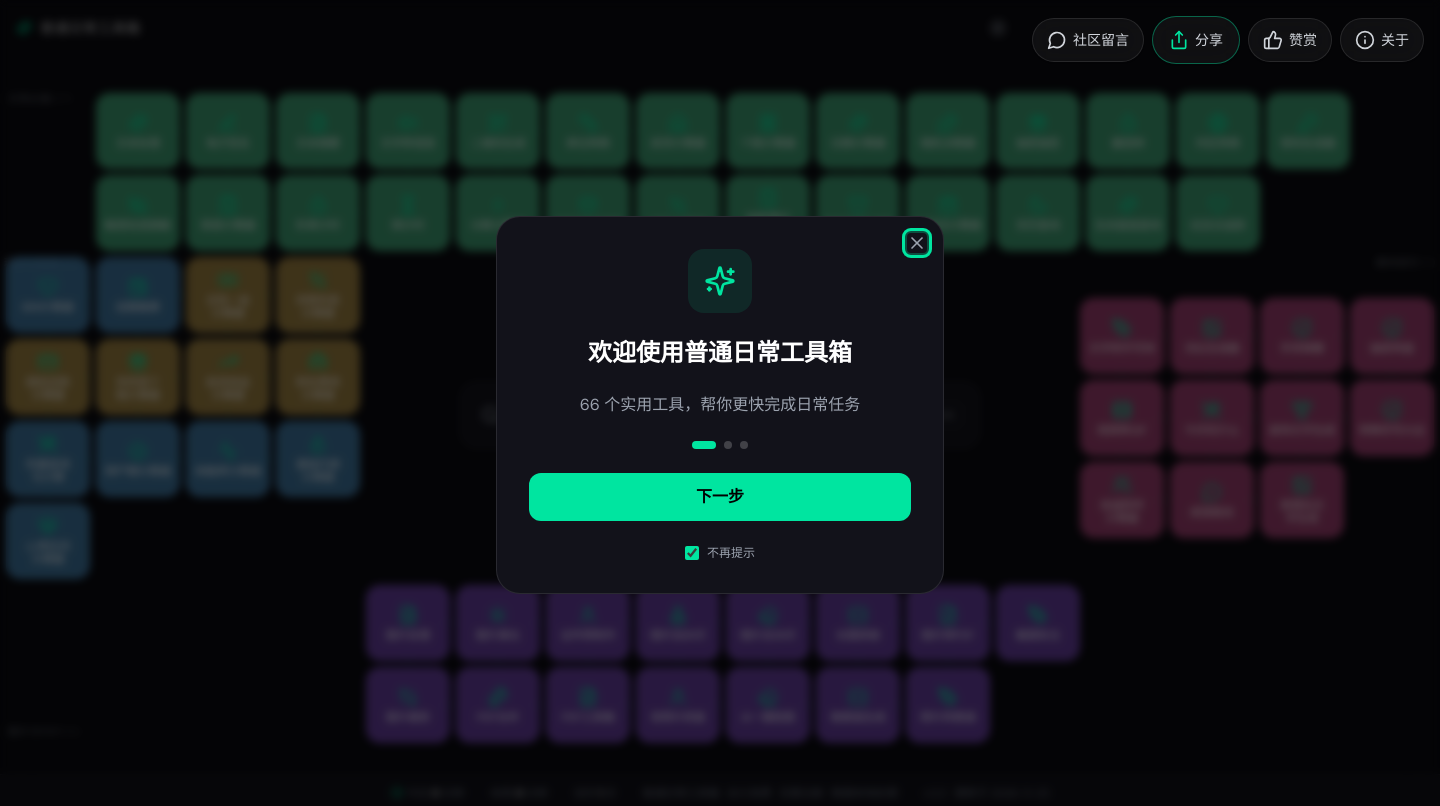
Scenario: 路由集成 (HashRouter) › C2 关于/隐私入口（已上移至右上角 LeadBar） › 点击菜单「关于」跳转 /about 并渲染关于页
Click the button named "关于": (1382, 40) [1340,18,1424,62]
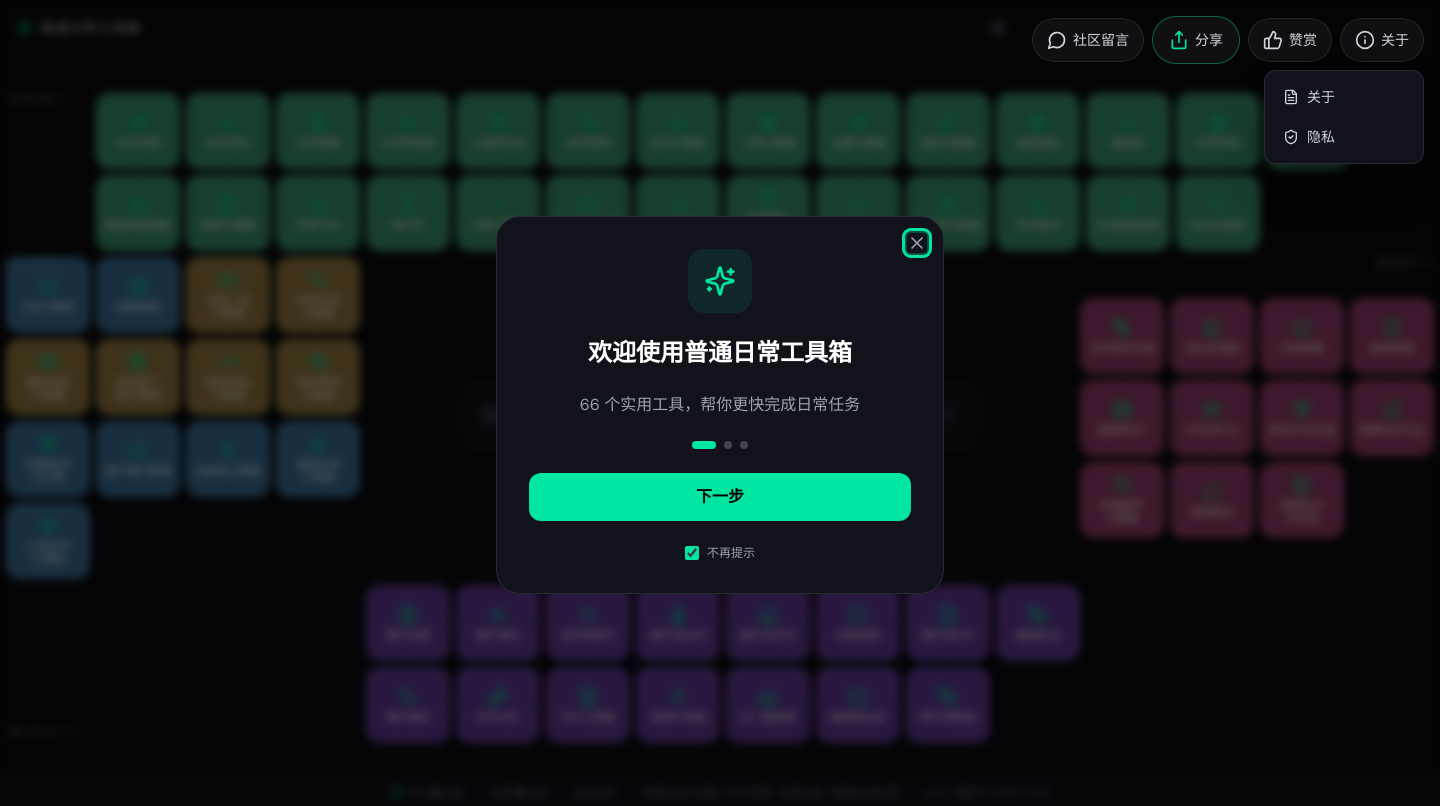
Check: the menu is shown, box [1264,70,1424,164]
Click the 1st menu item: (1344, 97) [1271,77,1417,117]
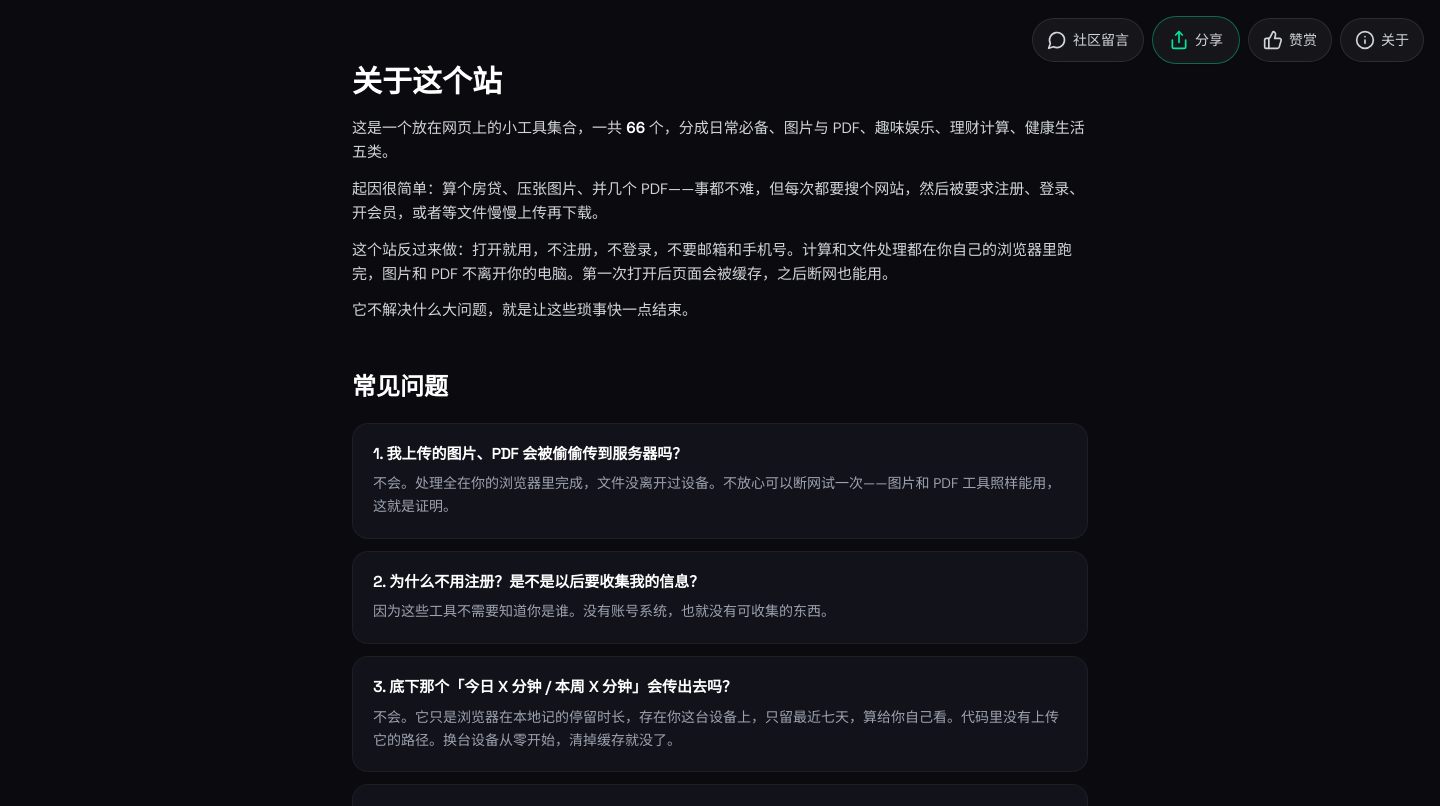
Check: the text "关于这个站" is shown, box [352,62,502,101]
